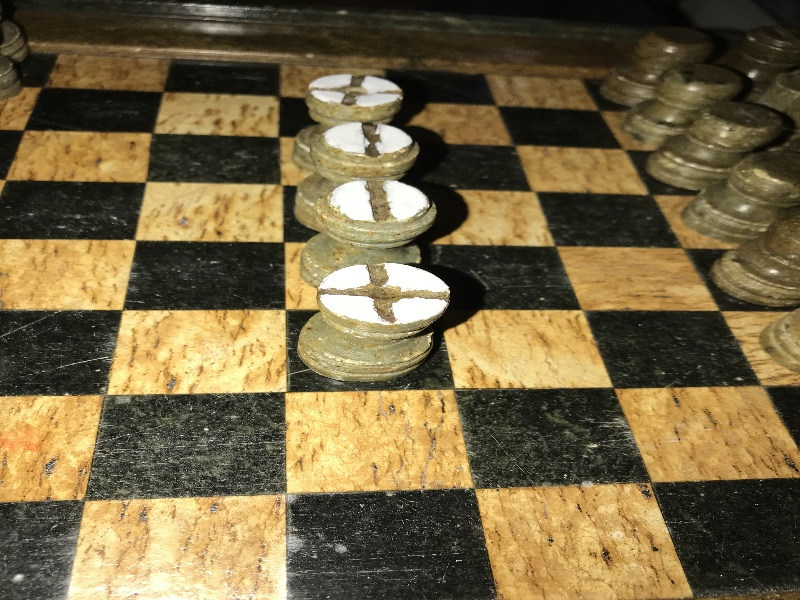WhiteBishop: (298, 264, 451, 381), (293, 74, 402, 136)
WhiteRook: (295, 122, 418, 229), (301, 180, 436, 277)
